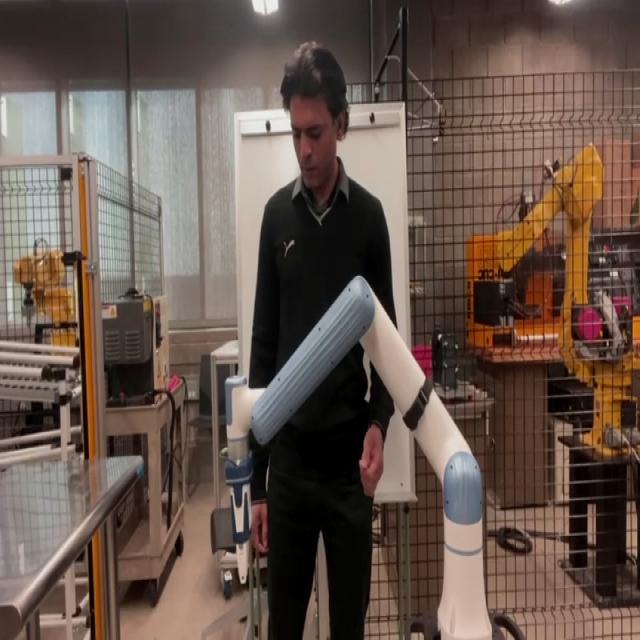robot: (210, 272, 498, 637)
